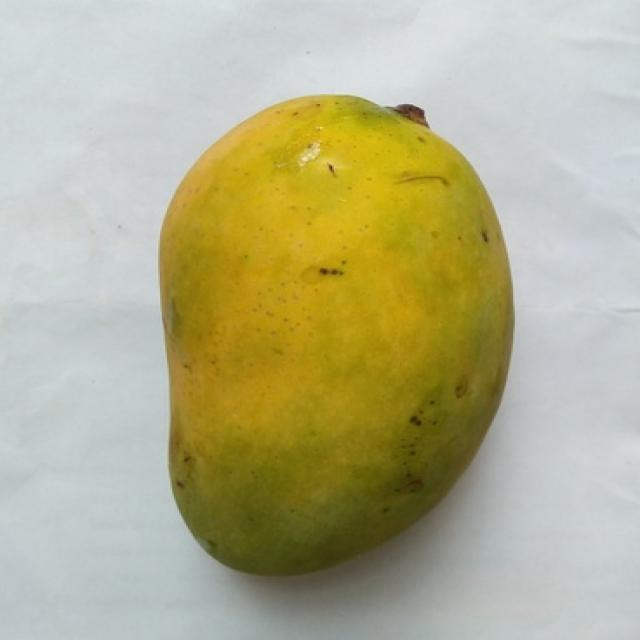Mango: (160, 97, 513, 573)
